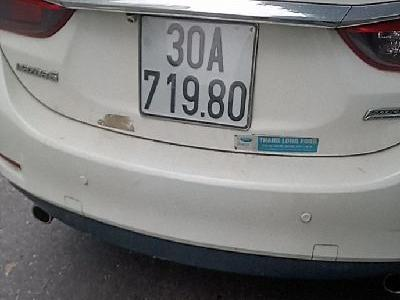lisence: (136, 12, 259, 132)
